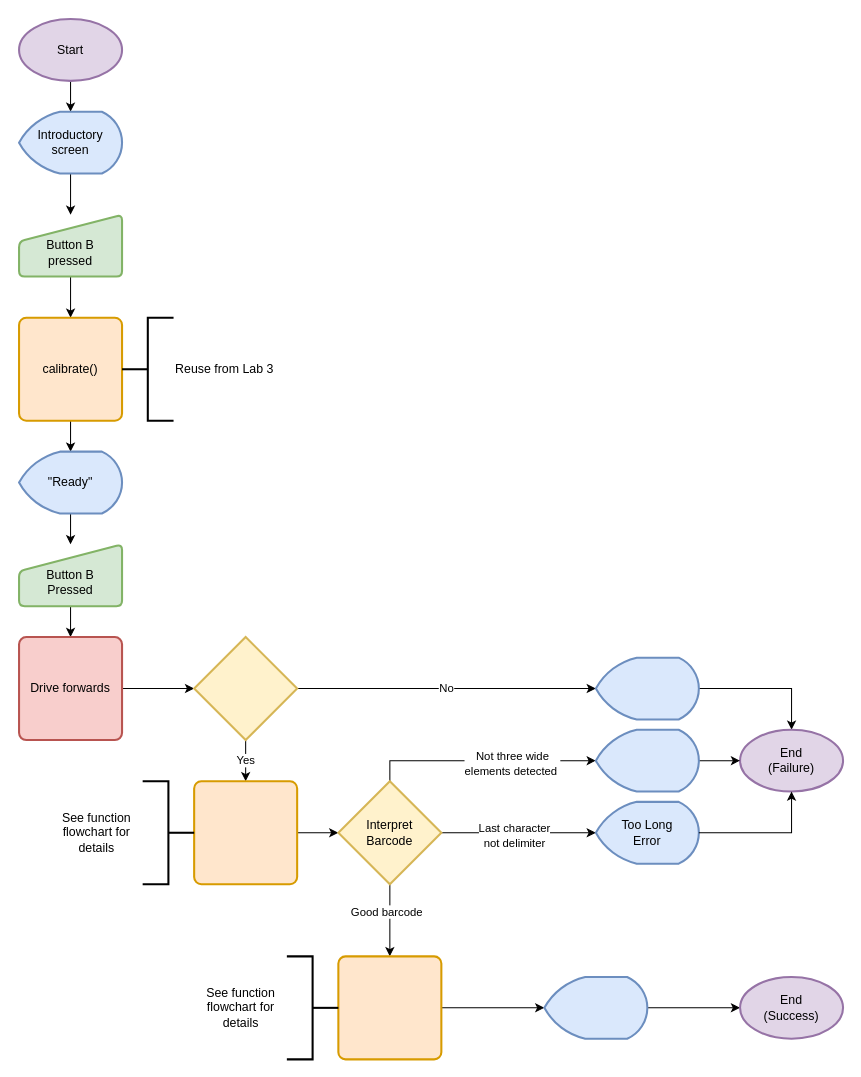
Some shapes in this 861 by 1077 pixel diagram are drawn without their labels. Here are the shapes that lost their labels. From the top down, the centre of each, then its label:
At point (245, 688): "Detect Black".
At point (646, 688): "No Barcode Error".
At point (646, 760): "Bad Code Error".
At point (245, 832): "readBarcode()".
At point (389, 1007): "translateBarcode()".
At point (595, 1007): "Translated Barcode".
